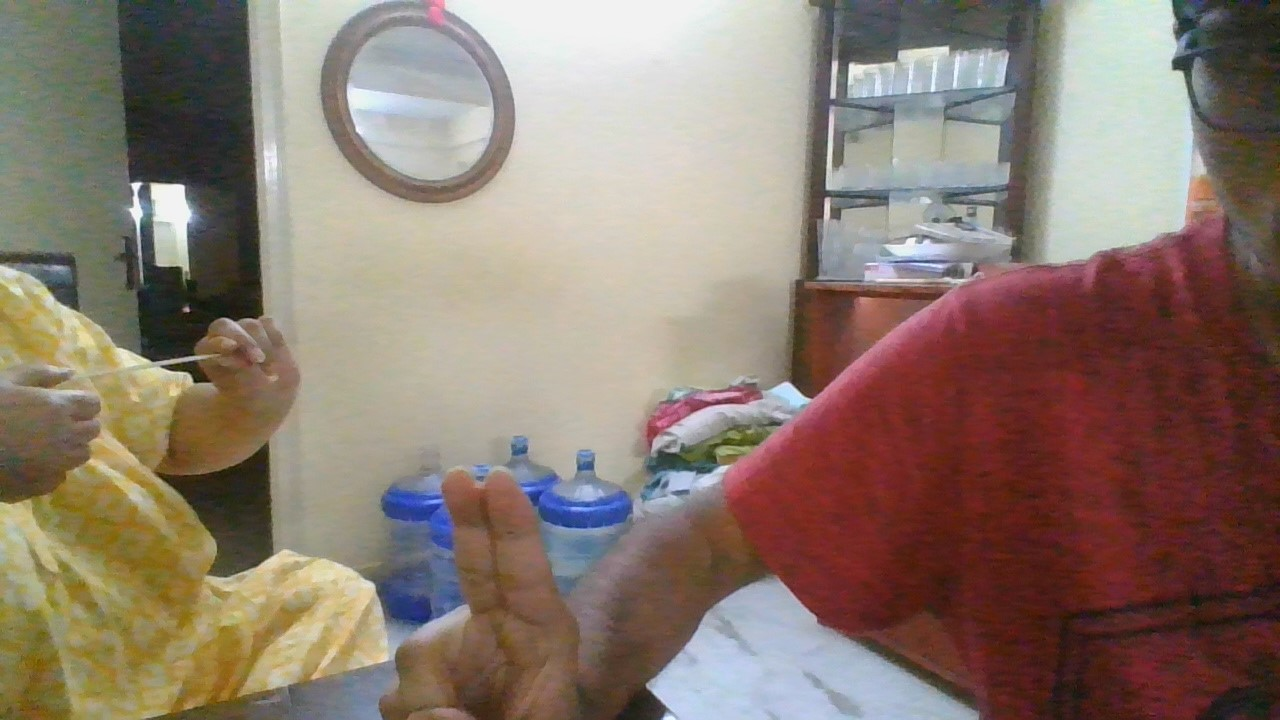u: (368, 459, 591, 720)
